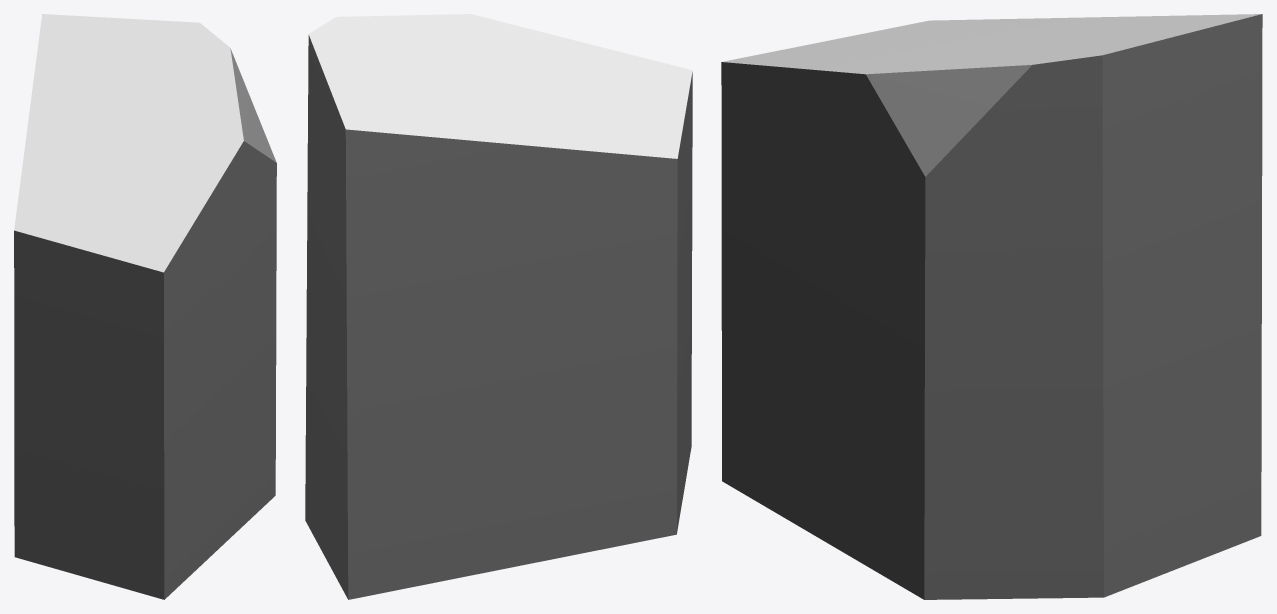
Rendered from stone winter small 3.fbx.
3 renders of one model, left to right at view 1: azimuth 30°, elevation 25°; view 2: azimuth 150°, elevation 25°; view 3: azimuth 270°, elevation 25°, orthographic. The views are drawn at different scales.
Visible parts, largest first — view 1: stone winter small 3; view 2: stone winter small 3; view 3: stone winter small 3.
Part boxes in pixels (left/top/right/bottom): stone winter small 3: left=14, top=14, right=276, bottom=599; stone winter small 3: left=305, top=14, right=692, bottom=599; stone winter small 3: left=721, top=14, right=1262, bottom=599.
Bounding box in the file's own units: 33.87 × 52.47 × 47.57.
